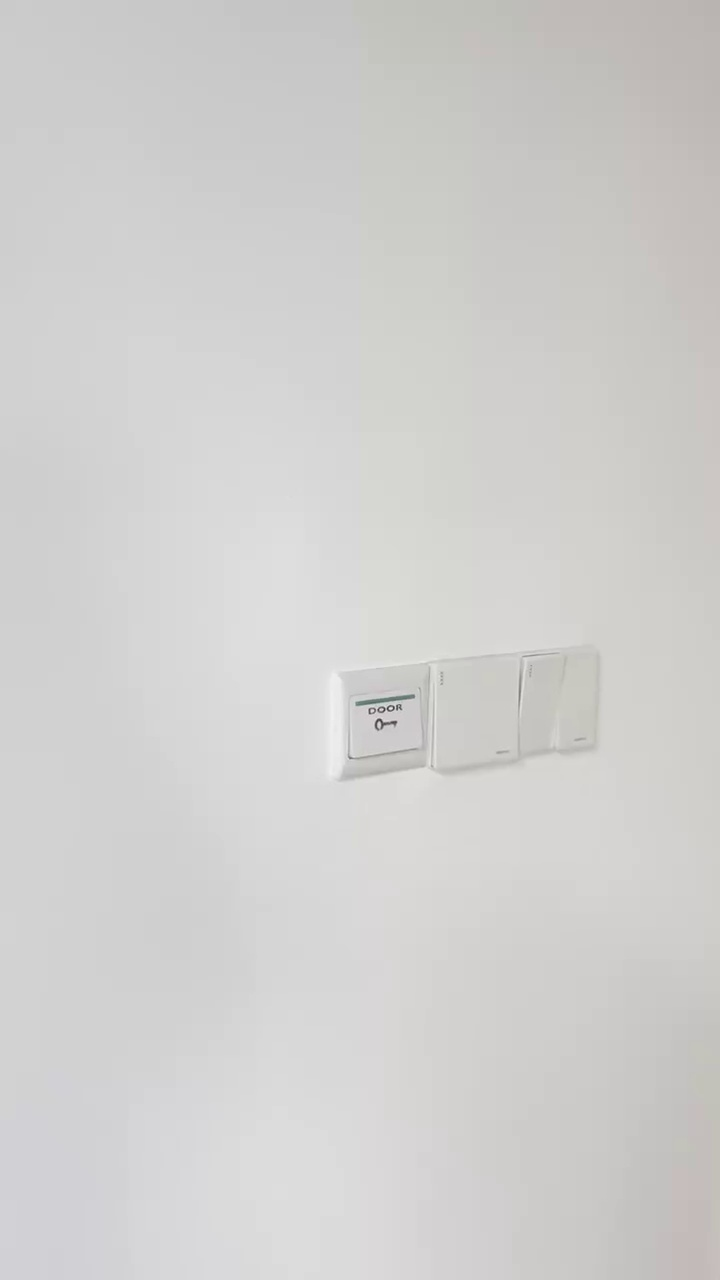button: (434, 652, 524, 776), (517, 643, 603, 757)
